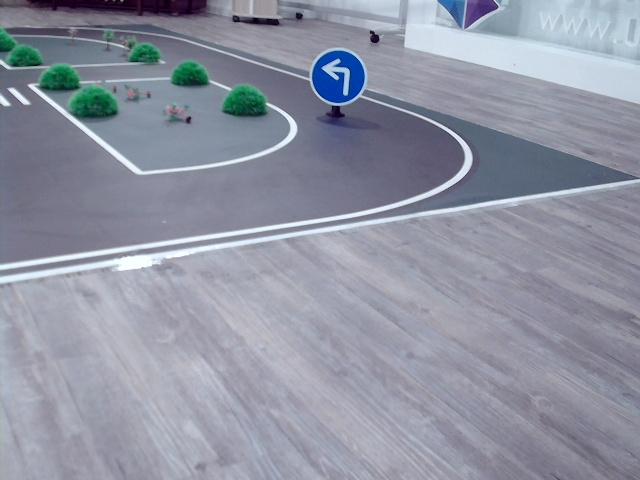turn_left: (321, 55, 352, 95)
